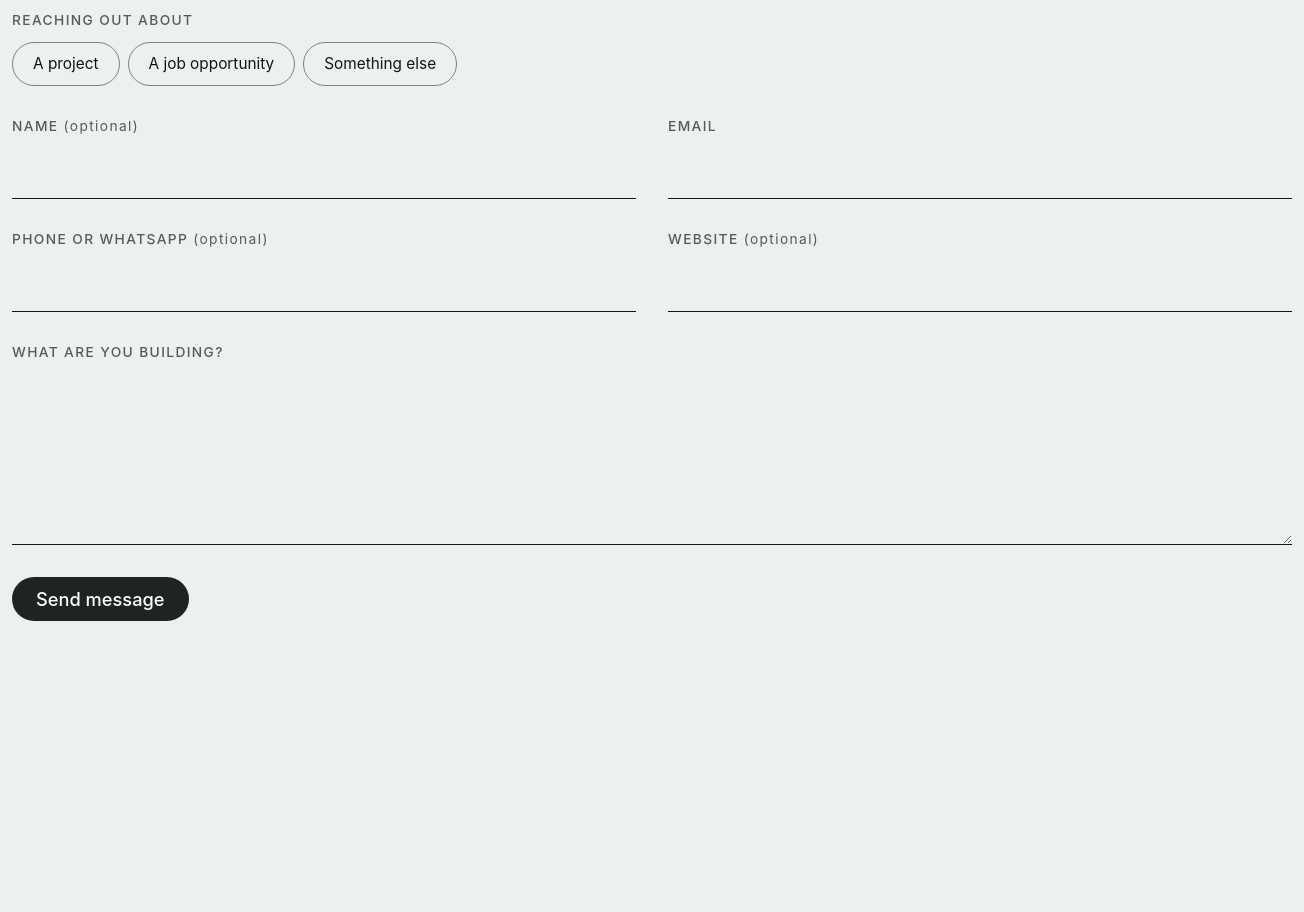
shows only the chosen topic's details and fits the message label to it
Later steps or results of the test are not shown.
Expected: the field labelled "Budget" is not shown
Expected: the field labelled "Company" is not shown
Click the radio button labelled "A project" at (66, 64), box 12,42 -> 120,86
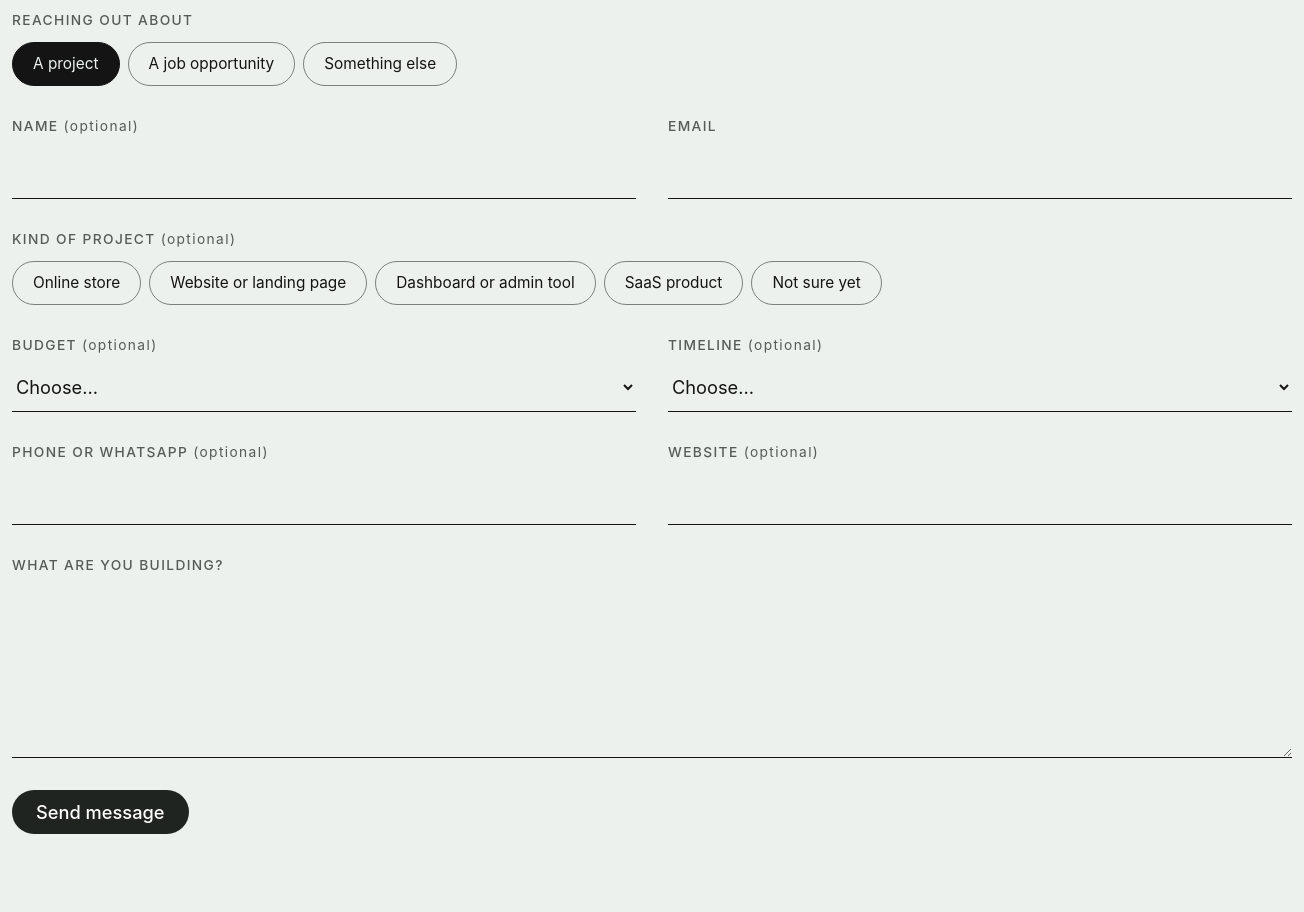
Expected: the text box labelled "What are you building?" is shown, 12,582 -> 1292,758
Result: the dropdown labelled "Budget (optional)" is shown at 12,363 -> 636,412
Result: the radio button labelled "Online store" is shown at 12,261 -> 141,305
Click the radio button labelled "A job opportunity" at (211, 64), box 128,42 -> 295,86
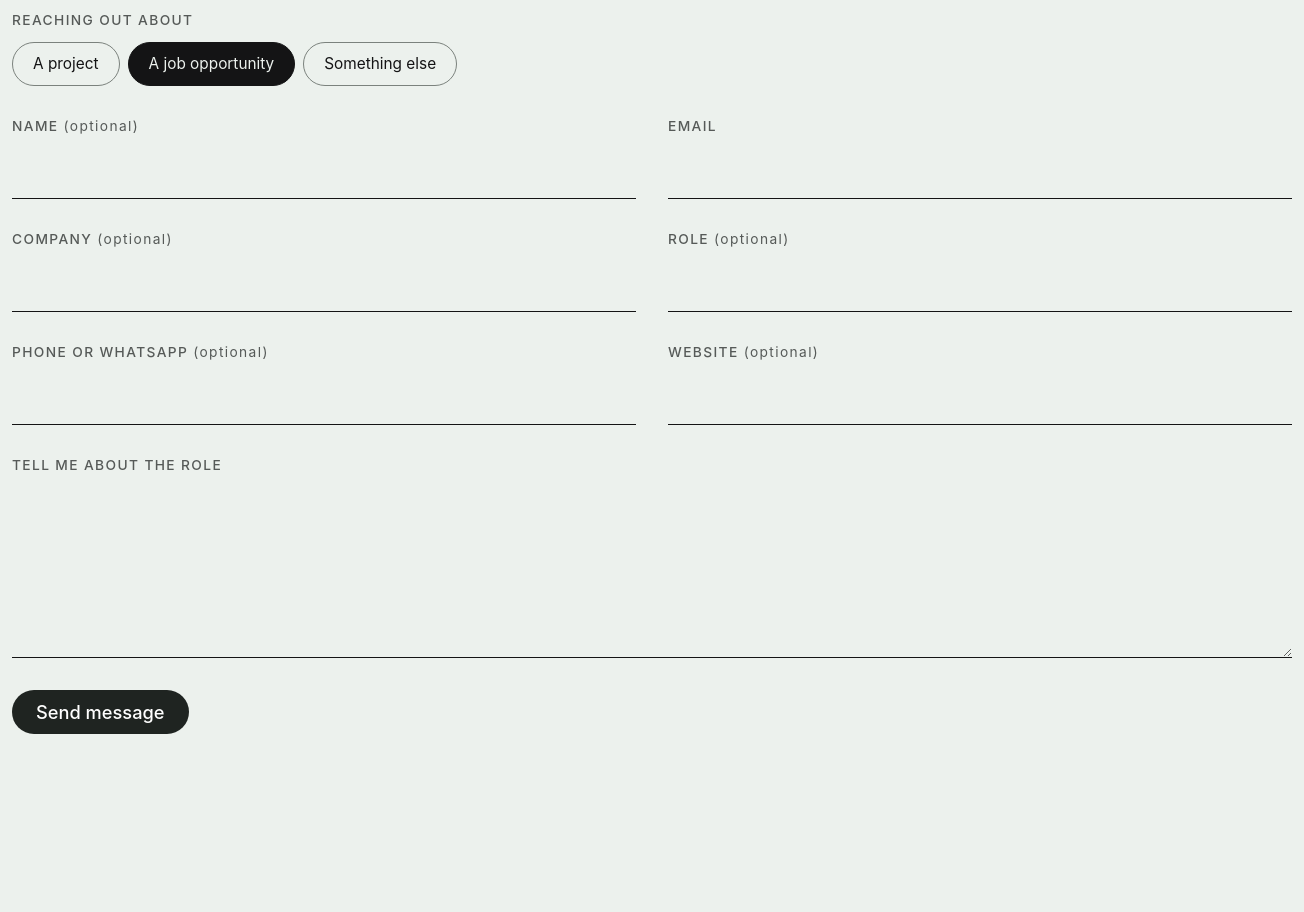
Result: the label labelled "Budget" is gone
Result: the field labelled "Company (optional)" is shown at 12,257 -> 636,312
Result: the field labelled "Role (optional)" is shown at 668,257 -> 1292,312
